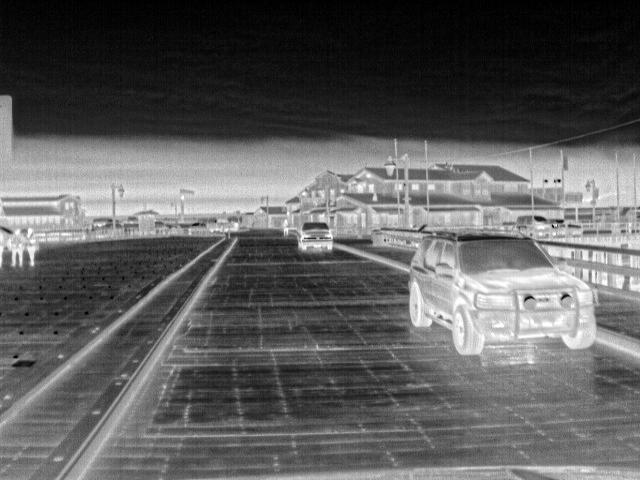car: (408, 234, 598, 358), (294, 220, 336, 252), (206, 214, 240, 232), (502, 215, 532, 225), (532, 214, 552, 227), (189, 222, 207, 234)
person: (7, 224, 23, 267), (24, 225, 38, 267), (282, 218, 291, 238)
